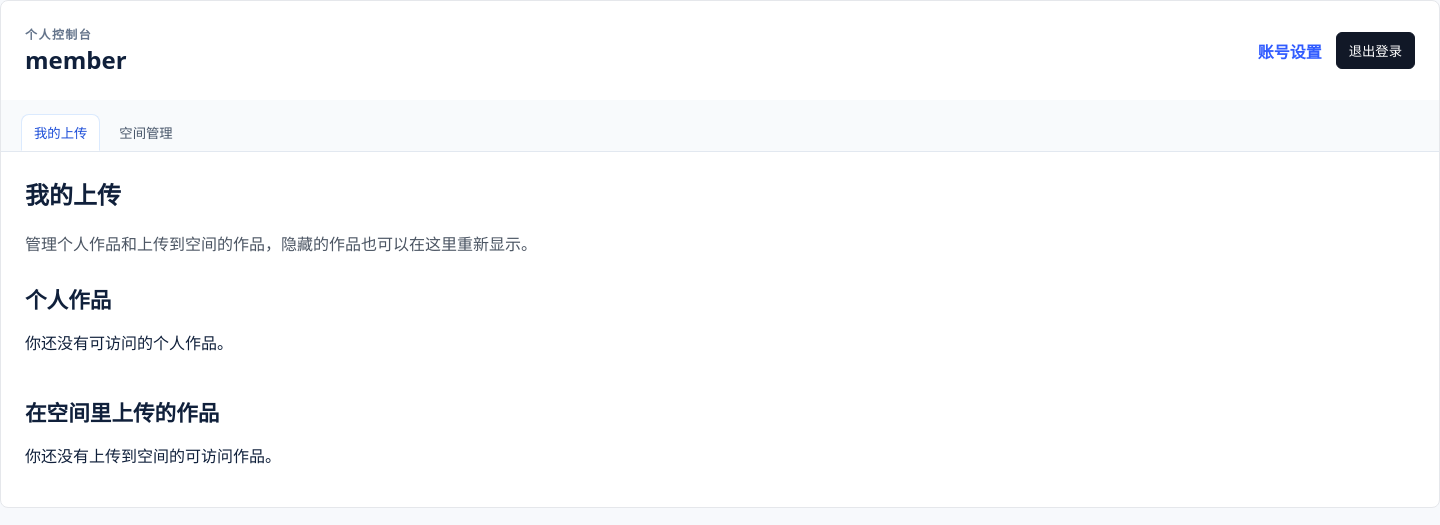
DashboardPage › only enters the dedicated space management page
Click the button "空间管理".
click(146, 132)  # box [106, 114, 186, 151]
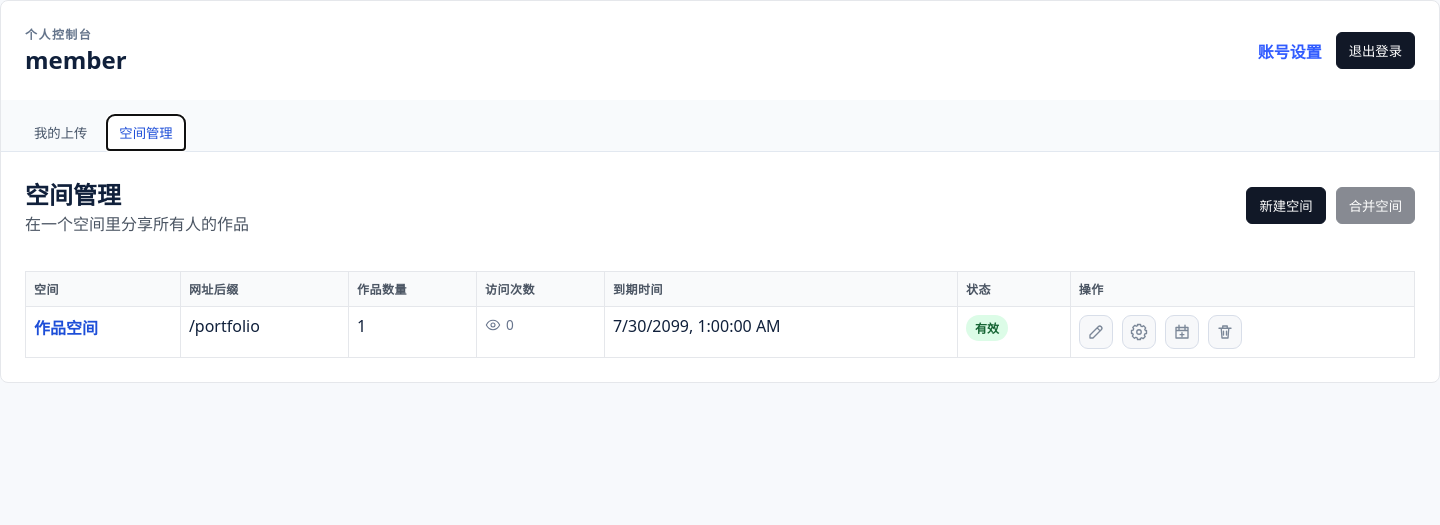
Now the button named "进入作品空间管理" is shown, box [1122, 315, 1156, 349]
